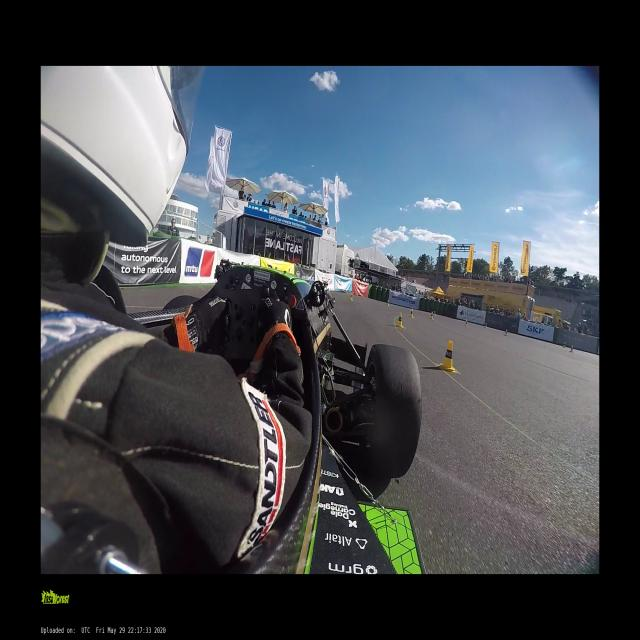yellow_cone: (438, 341, 455, 372), (395, 312, 403, 328), (408, 309, 414, 317), (429, 312, 433, 320), (349, 293, 353, 301), (464, 319, 467, 327), (569, 346, 573, 352), (504, 329, 507, 336), (563, 341, 566, 348), (386, 300, 389, 306), (485, 322, 487, 328)
